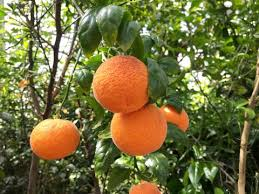orange: (90, 55, 152, 111), (110, 106, 169, 156), (27, 118, 79, 160), (159, 101, 190, 134), (127, 177, 162, 194)
